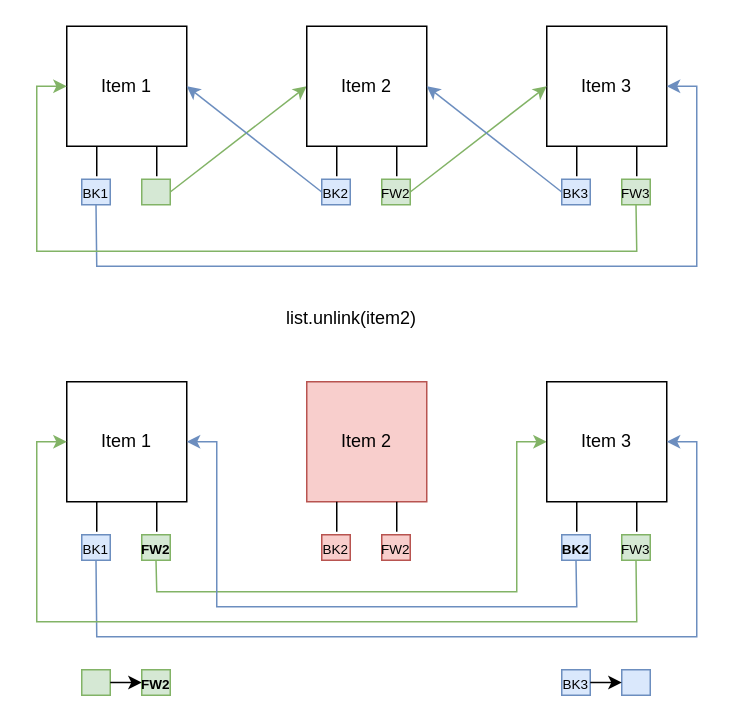
Some shapes in this 735 by 722 pixel diagram are drawn without their labels. Each missing label, with the box of its shape:
BW2: (620, 668, 650, 695)
FD1: (80, 668, 110, 695)
FW1: (140, 178, 170, 205)
